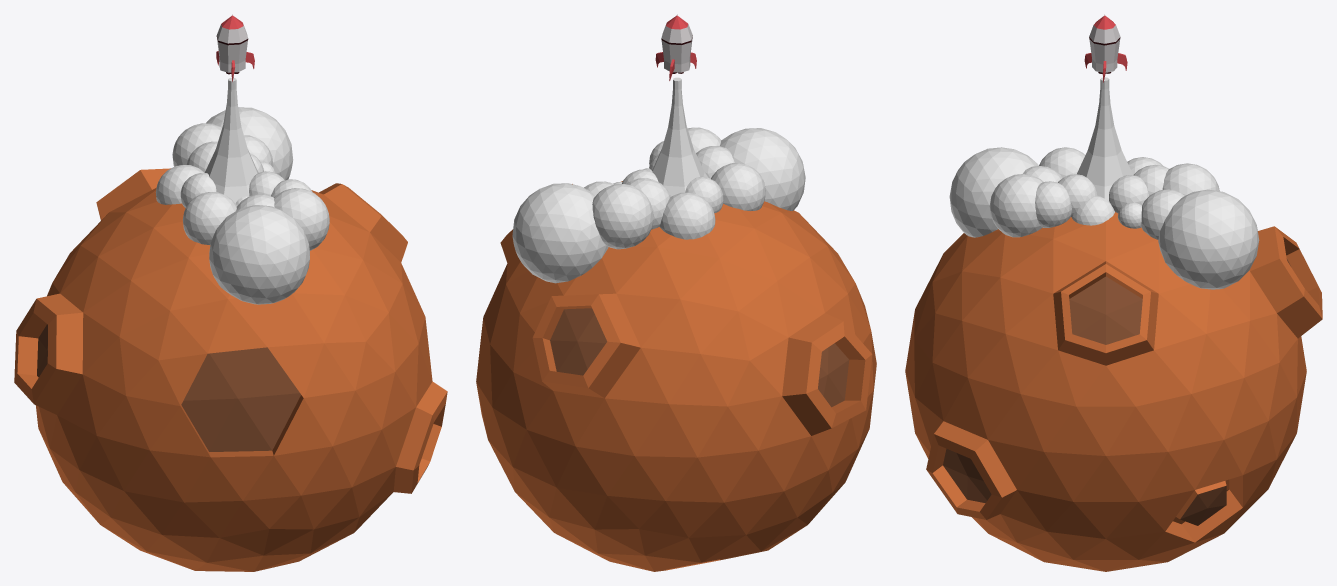
The model's file is skyrocket.glb.
The picture shows the model from 3 angles, left to right: view 1: azimuth 30°, elevation 25°; view 2: azimuth 150°, elevation 25°; view 3: azimuth 270°, elevation 25°; orthographic projection.
Visible parts, largest first — view 1: Icosphere, Icosphere.015, Cylinder.005, Icosphere.003, Icosphere.016, Icosphere.022, Cylinder, Icosphere.004, Icosphere.020, Icosphere.021, Icosphere.013, Icosphere.002; view 2: Icosphere, Icosphere.003, Icosphere.015, Icosphere.004, Cylinder.005, Icosphere.020, Icosphere.022, Cylinder, Icosphere.002, Icosphere.021, Icosphere.018, Icosphere.016; view 3: Icosphere, Icosphere.003, Icosphere.015, Cylinder.005, Icosphere.016, Icosphere.014, Cylinder, Icosphere.004, Icosphere.006, Icosphere.001, Icosphere.022, Icosphere.019 (+3 smaller).
Part boxes in pixels (x1,y1,x2,y2): Icosphere: [14, 168, 447, 571]; Icosphere.015: [209, 205, 309, 304]; Cylinder.005: [204, 77, 258, 203]; Icosphere.003: [206, 107, 293, 180]; Icosphere.016: [274, 188, 329, 250]; Icosphere.022: [182, 192, 236, 244]; Cylinder: [216, 15, 248, 72]; Icosphere.004: [172, 123, 221, 166]; Icosphere.020: [155, 165, 204, 204]; Icosphere.021: [180, 173, 216, 207]; Icosphere.013: [249, 171, 284, 195]; Icosphere.002: [186, 141, 217, 172]; Icosphere: [476, 181, 876, 571]; Icosphere.003: [512, 183, 608, 283]; Icosphere.015: [720, 128, 805, 210]; Icosphere.004: [592, 184, 653, 249]; Cylinder.005: [652, 77, 707, 196]; Icosphere.020: [659, 192, 715, 239]; Icosphere.022: [711, 163, 765, 210]; Cylinder: [661, 15, 692, 72]; Icosphere.002: [626, 178, 670, 229]; Icosphere.021: [685, 176, 723, 213]; Icosphere.018: [696, 146, 734, 178]; Icosphere.016: [687, 127, 721, 152]; Icosphere: [905, 212, 1322, 571]; Icosphere.003: [1158, 189, 1259, 289]; Icosphere.015: [949, 147, 1038, 237]; Cylinder.005: [1077, 77, 1132, 201]; Icosphere.016: [989, 174, 1043, 237]; Icosphere.014: [1035, 181, 1071, 227]; Cylinder: [1089, 15, 1120, 72]; Icosphere.004: [1162, 163, 1219, 195]; Icosphere.006: [1141, 189, 1184, 239]; Icosphere.001: [1109, 175, 1148, 212]; Icosphere.022: [1039, 147, 1085, 177]; Icosphere.019: [1071, 195, 1114, 225].
Bounding box in the file's own units: 6.33 × 8.89 × 6.24.
